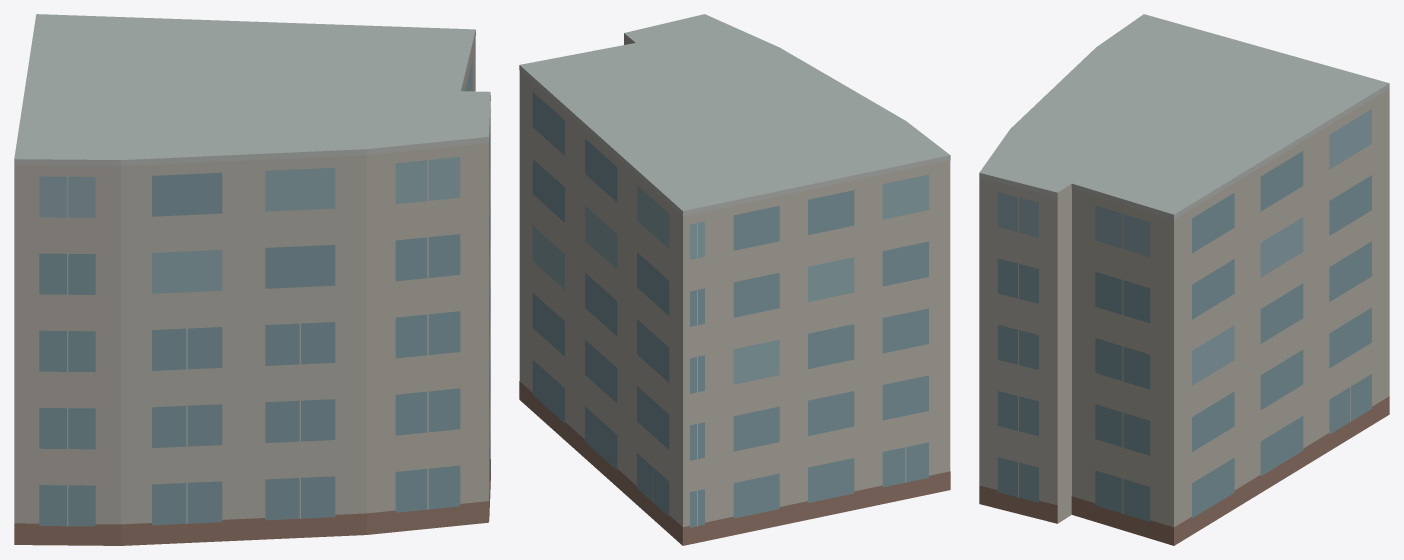
Rendered from survey-upis-32746924.glb.
3 renders of one model, left to right at view 1: azimuth 30°, elevation 25°; view 2: azimuth 150°, elevation 25°; view 3: azimuth 270°, elevation 25°, orthographic. The views are drawn at different scales.
Parts seen in each view (by area): view 1: survey-upis-32746924.tmp; view 2: survey-upis-32746924.tmp; view 3: survey-upis-32746924.tmp.
Part boxes in pixels (x1,y1,x2,y2): survey-upis-32746924.tmp: (14, 14, 490, 545); survey-upis-32746924.tmp: (519, 14, 950, 545); survey-upis-32746924.tmp: (979, 14, 1389, 545).
Bounding box in the file's own units: 20.15 × 15.5 × 17.42.
